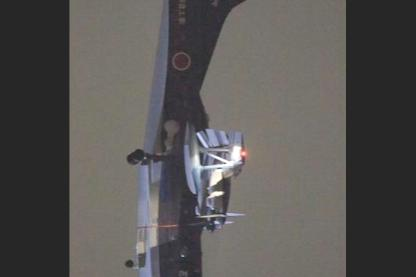Tu95: (124, 0, 279, 276)
